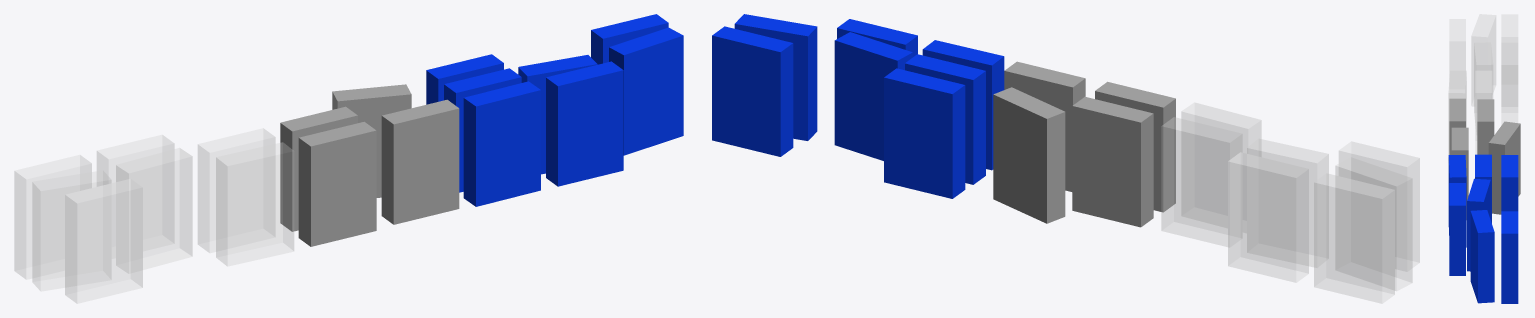
Rendered from Cereals_me9j99_Pack01.fbx.
The picture shows the model from 3 angles, left to right: view 1: azimuth 30°, elevation 25°; view 2: azimuth 150°, elevation 25°; view 3: azimuth 270°, elevation 25°; orthographic projection. The views are drawn at different scales.
Parts seen in each view (by area): view 1: Cereals_me9j99_Pack01; view 2: Cereals_me9j99_Pack01; view 3: Cereals_me9j99_Pack01.
Part boxes in pixels (x1,y1,x2,y2): Cereals_me9j99_Pack01: (14,14,683,303); Cereals_me9j99_Pack01: (712,14,1419,303); Cereals_me9j99_Pack01: (1448,14,1520,303).
Size of the model in its own units: 188 by 28.06 by 26.17.
